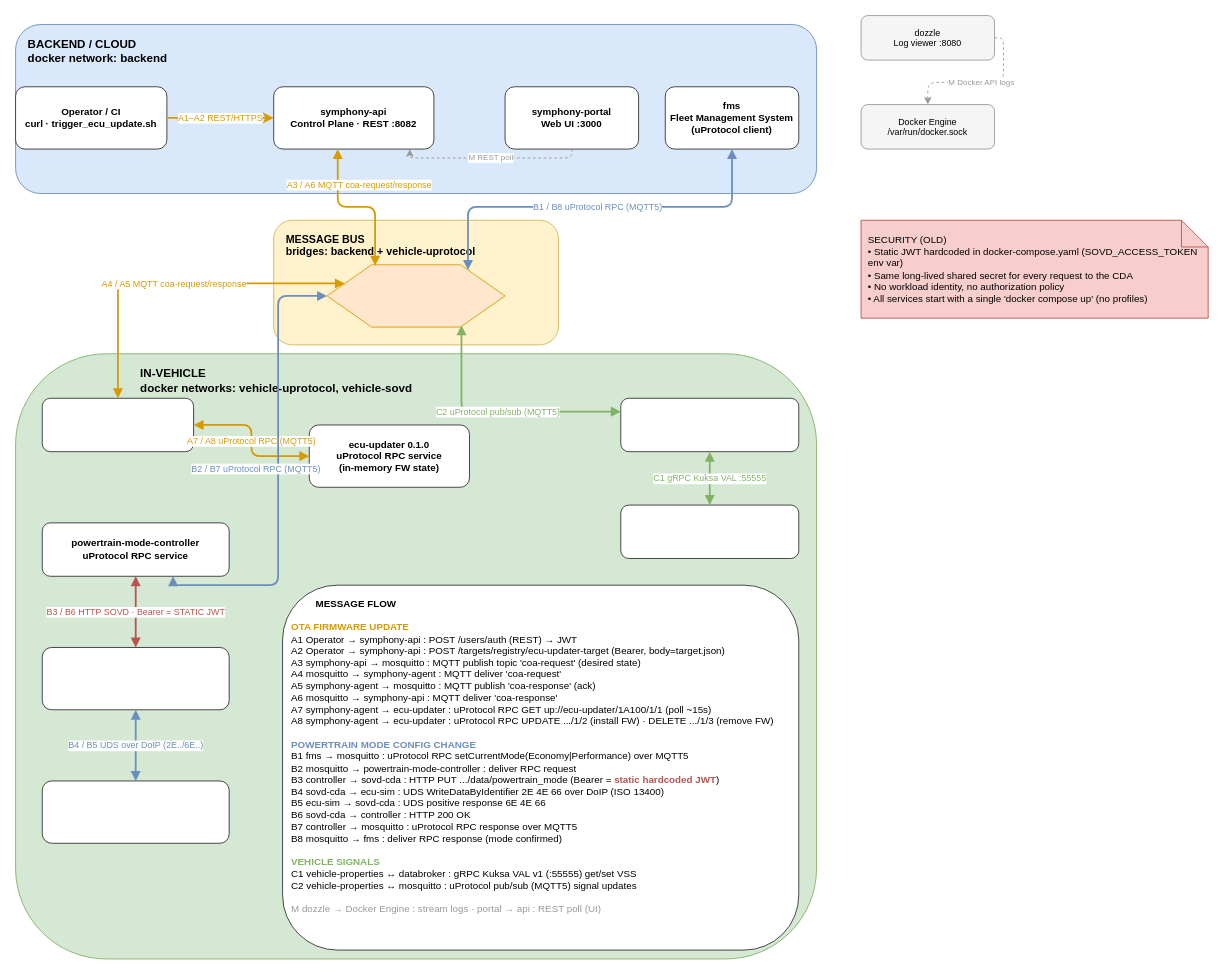
Some shapes in this 1224 by 975 pixel diagram are drawn without their labels. The centre of each missing label's shape, as x and y in pixels:
"databroker Kuksa VAL · gRPC :55555" belongs at (x=709, y=531).
"ecu-sim Simulated ECU (blueprint-ecu) DoIP + Control HTTP :8181" belongs at (x=135, y=811).
"mosquitto MQTT Broker :1883" belongs at (x=415, y=295).
"sovd-cda upstream OpenSOVD test image SOVD/HTTP :20002" belongs at (x=135, y=678).
"symphony-agent Target Agent" belongs at (x=117, y=424).
"vehicle-properties uProtocol ↔ Databroker bridge" belongs at (x=709, y=424).
